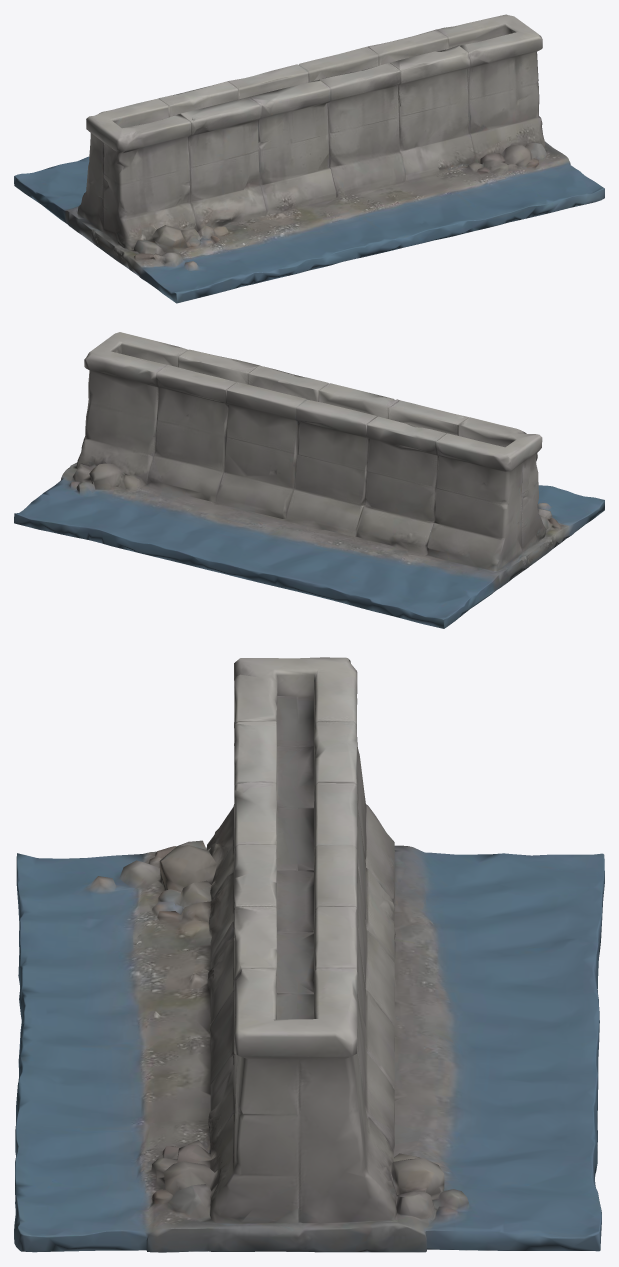
Rendered from lagos_seawall.glb.
The picture shows the model from 3 angles, top to bottom: view 1: azimuth 30°, elevation 25°; view 2: azimuth 150°, elevation 25°; view 3: azimuth 270°, elevation 25°; orthographic projection. The views are drawn at different scales.
Parts seen in each view (by area): view 1: tripo_node_d28738ea-0a92-4bdf-8dc1-a4f4d45e68df; view 2: tripo_node_d28738ea-0a92-4bdf-8dc1-a4f4d45e68df; view 3: tripo_node_d28738ea-0a92-4bdf-8dc1-a4f4d45e68df.
Boxes of the visible parts, bbox=[...] form: tripo_node_d28738ea-0a92-4bdf-8dc1-a4f4d45e68df: bbox=[14, 14, 604, 303]; tripo_node_d28738ea-0a92-4bdf-8dc1-a4f4d45e68df: bbox=[14, 332, 604, 628]; tripo_node_d28738ea-0a92-4bdf-8dc1-a4f4d45e68df: bbox=[14, 657, 604, 1252].
Size of the model in its own units: 1 by 0.264 by 0.6491.
1 material, 1 textured.
